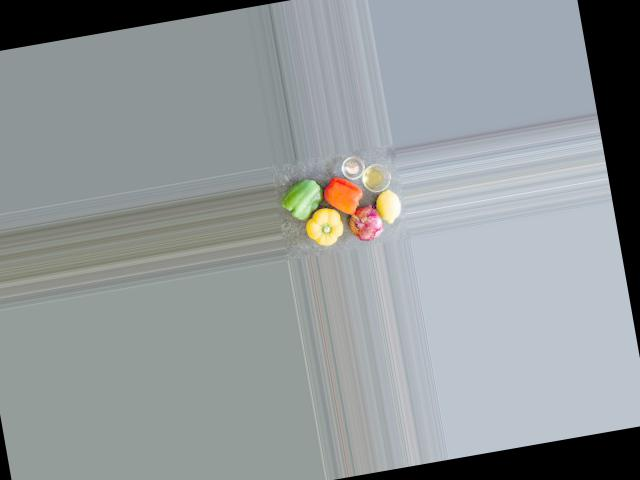bell_pepper: (321, 172, 365, 219)
